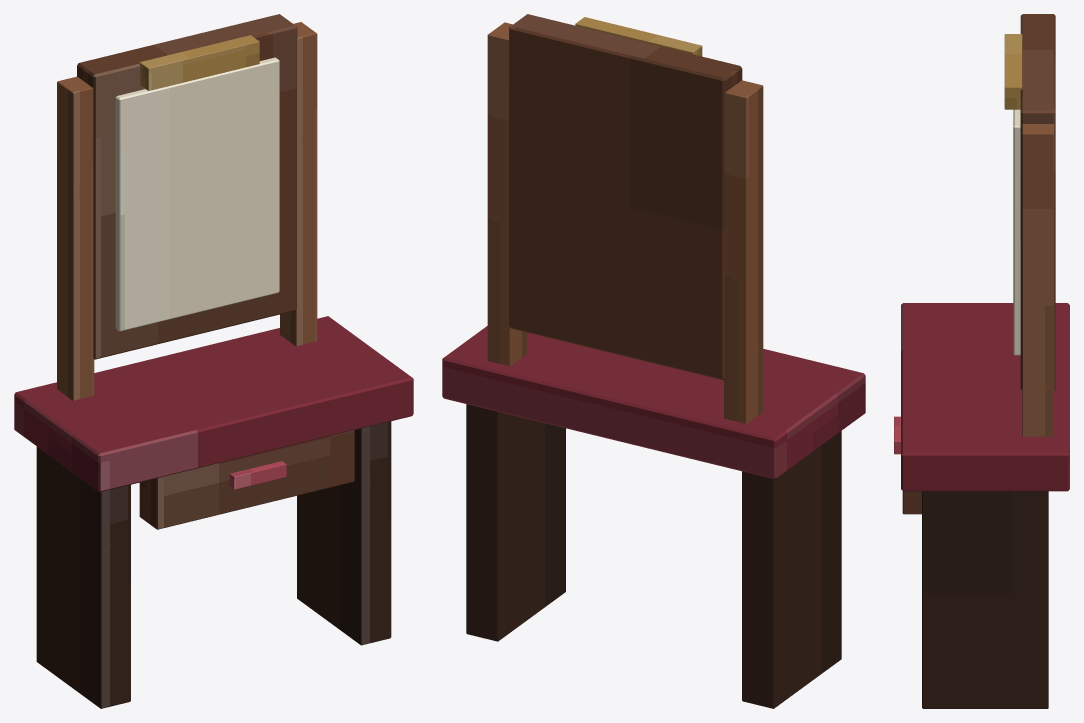
File: bedroom_vanity.glb
3 views of the same model, side by side, from view 1: azimuth 30°, elevation 25°; view 2: azimuth 150°, elevation 25°; view 3: azimuth 270°, elevation 25° (orthographic). The views are drawn at different scales.
Parts seen in each view (by area): view 1: VanityTop, VanityMirrorGlass, VanityLeg_L, VanityMirrorBack, VanityLeg_R, MirrorPost_L, VanityDrawer, MirrorPost_R, VanityAccent, VanityHandle; view 2: VanityMirrorBack, VanityTop, VanityLeg_L, VanityLeg_R, MirrorPost_L, MirrorPost_R, VanityAccent; view 3: VanityLeg_R, VanityTop, MirrorPost_R, VanityMirrorBack, VanityMirrorGlass, VanityAccent, VanityDrawer.
Boxes of the visible parts, x1,y1,x2,y2 form: VanityTop: (14, 316, 413, 492); VanityMirrorGlass: (115, 57, 279, 331); VanityLeg_L: (36, 446, 130, 708); VanityMirrorBack: (77, 14, 297, 359); VanityLeg_R: (297, 421, 391, 645); MirrorPost_L: (57, 76, 94, 400); VanityDrawer: (139, 430, 354, 529); MirrorPost_R: (280, 22, 317, 346); VanityAccent: (139, 35, 259, 90); VanityHandle: (229, 461, 286, 489); VanityMirrorBack: (509, 14, 742, 380); VanityTop: (442, 326, 865, 479); VanityLeg_L: (742, 431, 841, 708); VanityLeg_R: (466, 404, 565, 641); MirrorPost_L: (724, 80, 763, 423); MirrorPost_R: (487, 22, 526, 365); VanityAccent: (575, 17, 702, 56); VanityLeg_R: (922, 491, 1048, 708); VanityTop: (901, 303, 1069, 491); MirrorPost_R: (1022, 124, 1053, 436); VanityMirrorBack: (1020, 14, 1055, 390); VanityMirrorGlass: (1013, 109, 1020, 355); VanityAccent: (1004, 34, 1022, 109); VanityDrawer: (902, 491, 921, 514).
Bounding box in the file's own units: 1.02 × 1.81 × 0.4995.
Materials: 1 (1 with a texture image).
